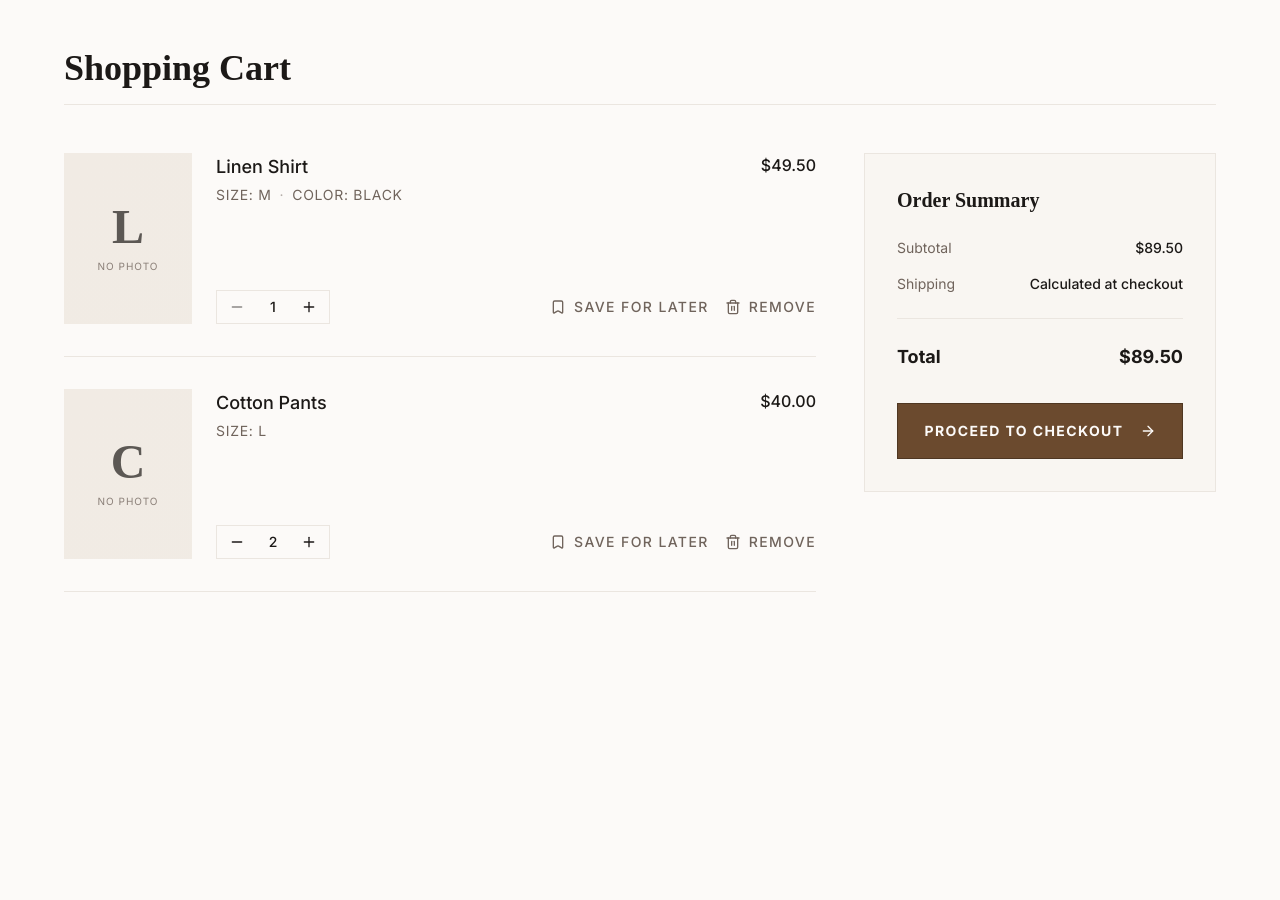
Scenario: Cart remove button › opens a confirmation dialog instead of removing immediately when Remove is clicked
Click the button "Remove" below "49.50".
click(770, 307)  # box [725,297,816,317]
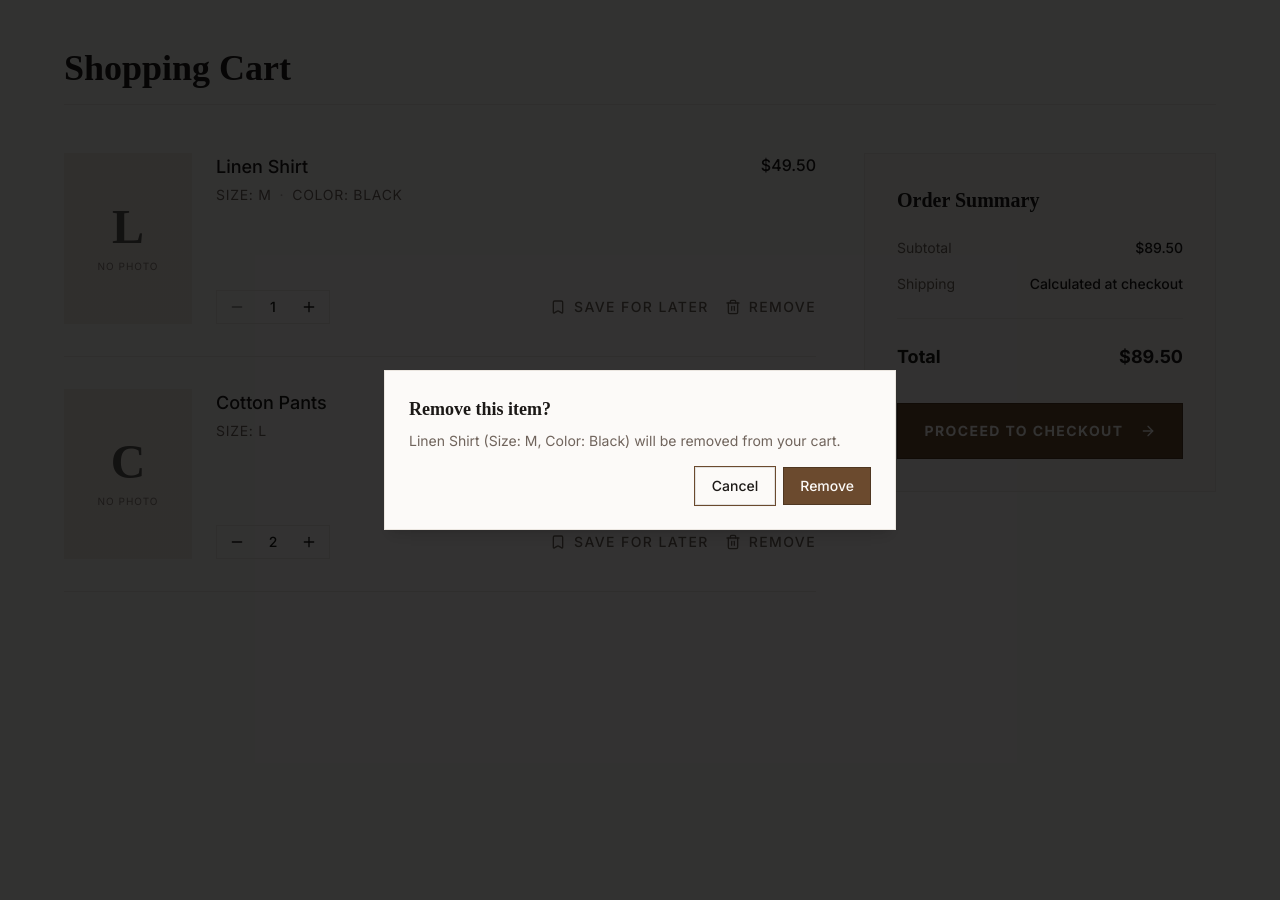
Expected: the heading "Remove this item?" is shown, [409,399,551,419]
Expected: the text "Linen Shirt" is shown, [409,432,480,449]
Expected: the text "Color: Black" is shown, [480,432,630,449]
